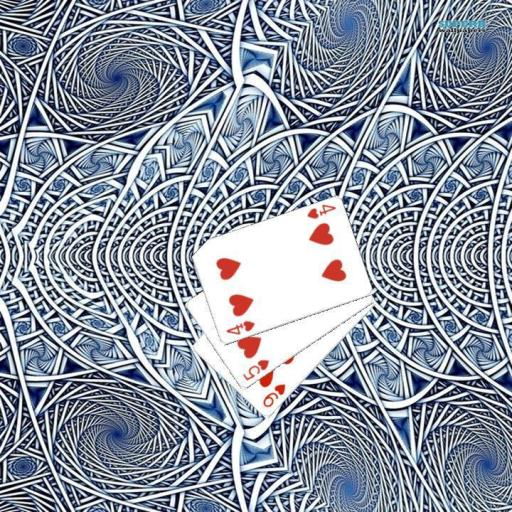card-corner: (240, 356, 270, 383), (260, 381, 287, 410), (223, 318, 256, 336), (304, 202, 337, 220)
